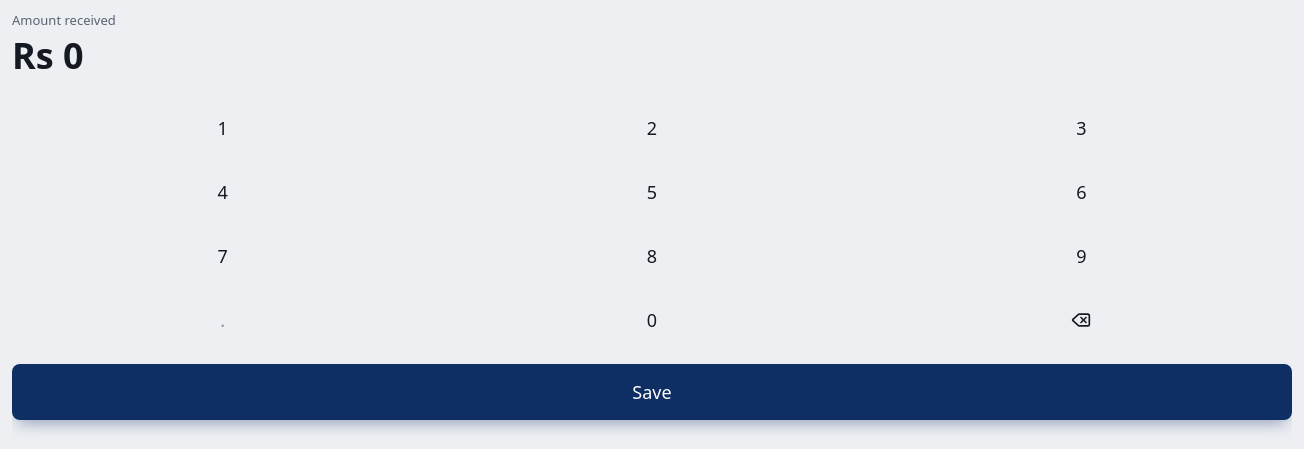
the decimal point key is present (matches the 12-key grid) but inert
Expected: the button "." is disabled, [12,292,433,348]
Click the button "5". click: [652, 192]
box: [441,164,863,220]
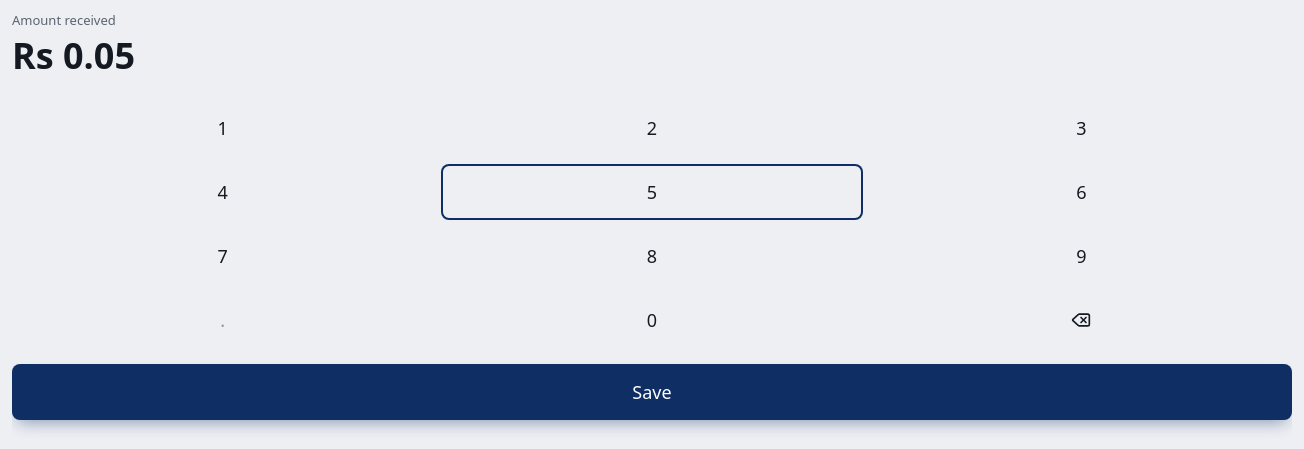
Expected: the field named "Amount received" reads "Rs 0.05", [12,31,135,80]
